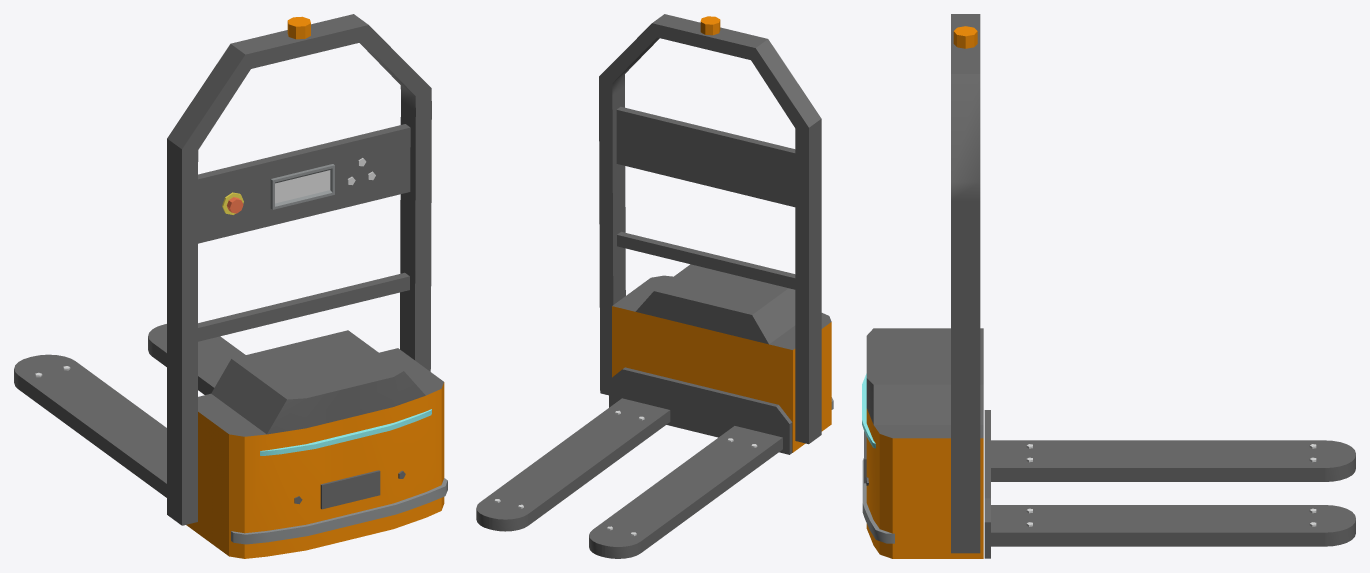
Rendered from AGV-默认状态.glb.
3 renders of one model, left to right at view 1: azimuth 30°, elevation 25°; view 2: azimuth 150°, elevation 25°; view 3: azimuth 270°, elevation 25°, orthographic. The views are drawn at different scales.
Visible parts, largest first — view 1: 圆柱.6, 立方体.5-材质.1, 立方体.5-材质.12, 立方体.8, 立方体.9, 立方体.3-材质.5, 立方体.3-材质.7_1; view 2: 圆柱.6, 立方体.5-材质.1, 立方体.5-材质.12; view 3: 圆柱.6, 立方体.5-材质.1, 立方体.5-材质.12, 立方体.8.
Part boxes in pixels (x1,y1,x2,y2): 圆柱.6: (14,14,431,525); 立方体.5-材质.1: (186,382,444,558); 立方体.5-材质.12: (198,330,443,436); 立方体.8: (231,478,447,544); 立方体.9: (260,409,431,455); 立方体.3-材质.5: (275,170,330,203); 立方体.3-材质.7_1: (270,164,334,209); 圆柱.6: (476,14,821,558); 立方体.5-材质.1: (612,306,831,452); 立方体.5-材质.12: (612,264,831,349); 圆柱.6: (864,14,1355,558); 立方体.5-材质.1: (866,408,983,558); 立方体.5-材质.12: (866,328,983,438); 立方体.8: (862,458,894,543).
Size of the model in its own units: 26.53 by 48.85 by 45.96.
